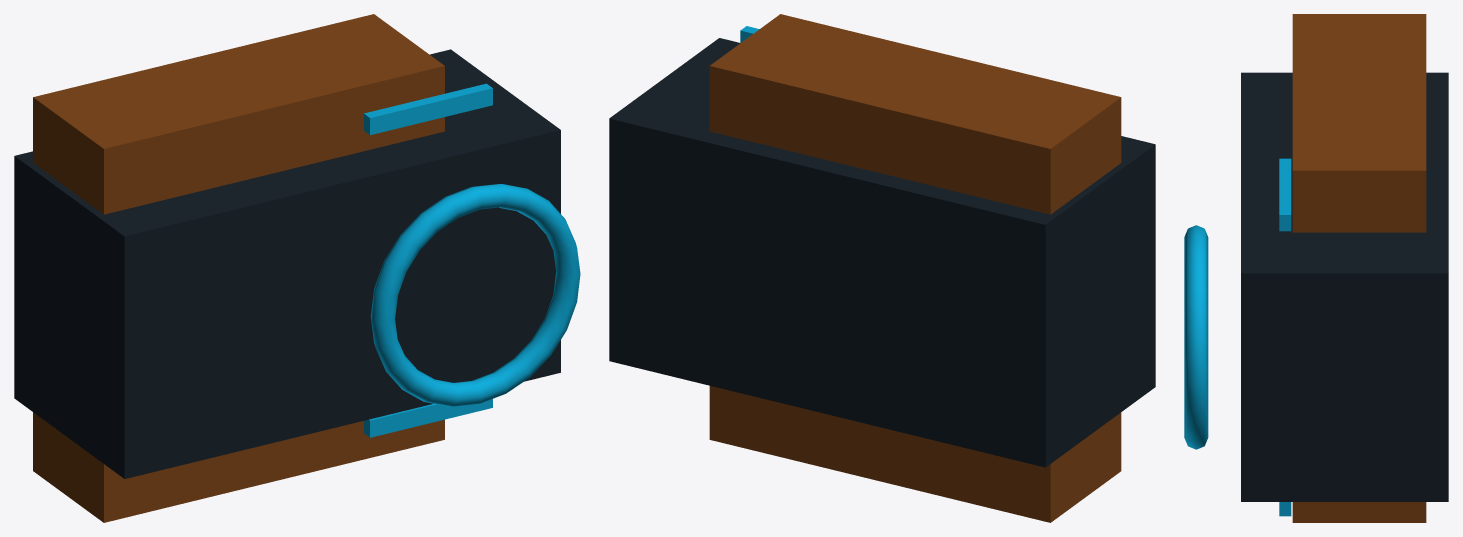
The model's file is SM_MobileDepot.obj.
3 views of the same model, side by side, from view 1: azimuth 30°, elevation 25°; view 2: azimuth 150°, elevation 25°; view 3: azimuth 270°, elevation 25° (orthographic). The views are drawn at different scales.
Visible parts, largest first — view 1: SM_MobileDepot; view 2: SM_MobileDepot; view 3: SM_MobileDepot.
Boxes of the visible parts, x1,y1,x2,y2 form: SM_MobileDepot: (14,14,580,522); SM_MobileDepot: (609,14,1155,522); SM_MobileDepot: (1184,14,1448,522).
Size of the model in its own units: 160 by 131 by 89.
